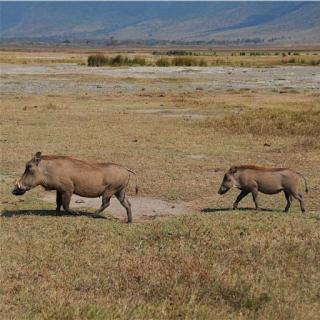Pig: (3, 126, 144, 231), (201, 151, 308, 228)
